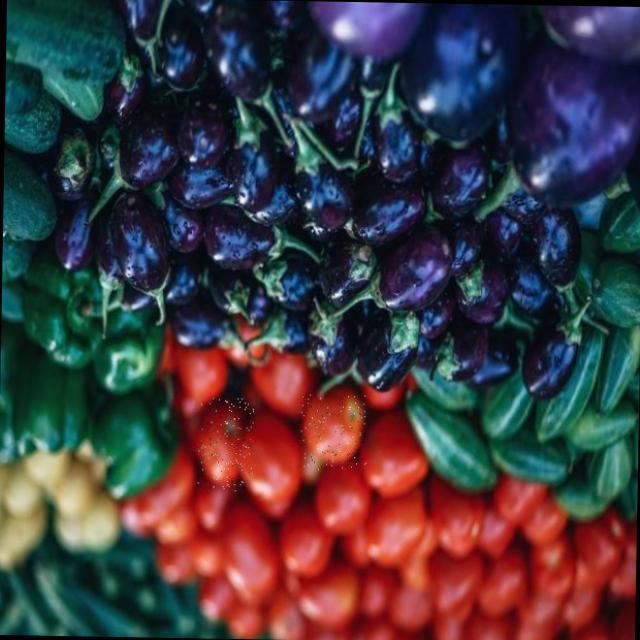Tomate: (196, 397, 253, 493), (299, 393, 367, 470)
